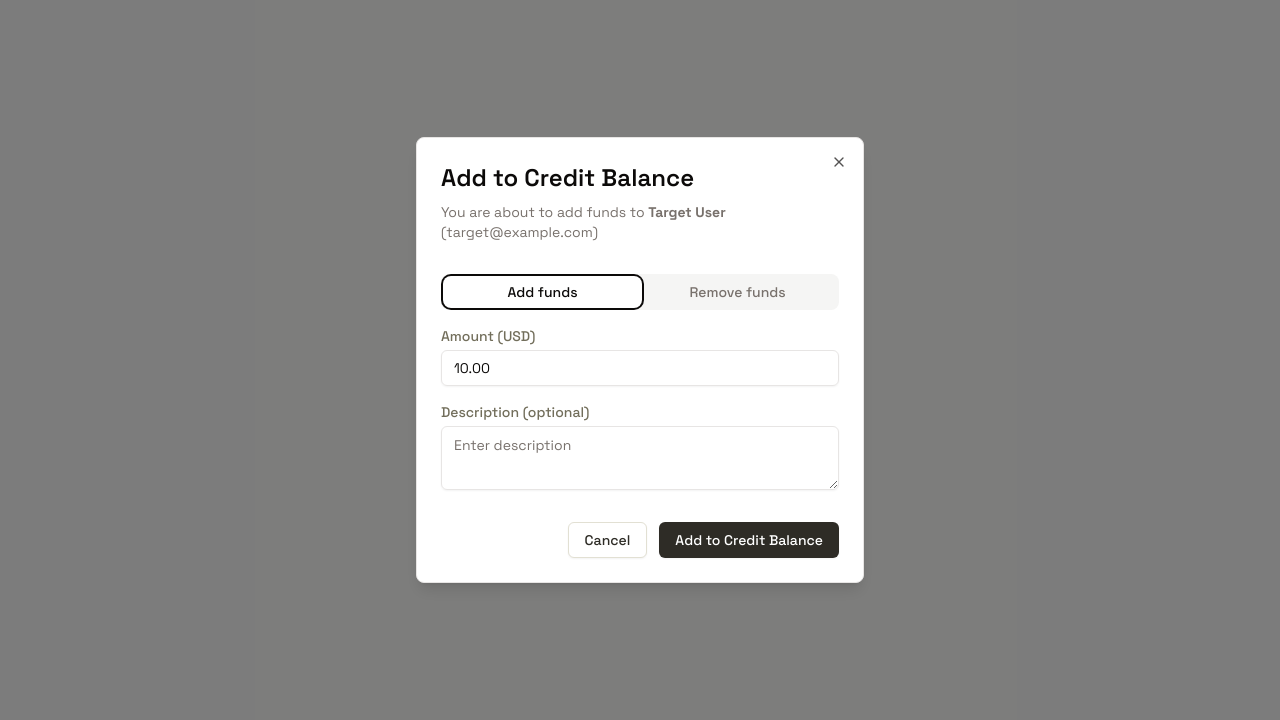
Scenario: AddFundsModal › switches the dialog copy when Remove funds is selected
The width and height of the screenshot is (1280, 720).
Click the tab "Remove funds": (738, 292) [640,278,835,306]
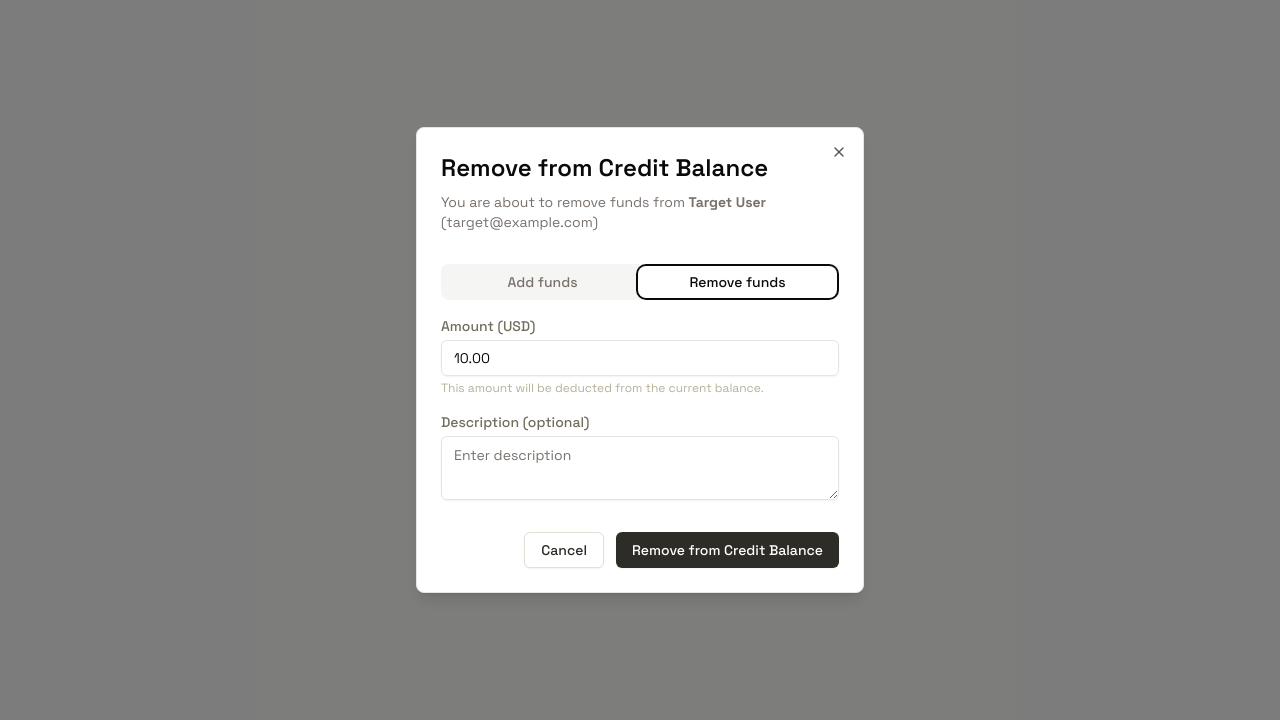
Now the heading "Remove from Credit Balance" is shown, box [441,152,768,183]
Now the dialog shows "You are about to remove funds from", box [416,127,864,593]
Now the dialog shows "This amount will be deducted from the current balance.", box [441,380,764,396]
